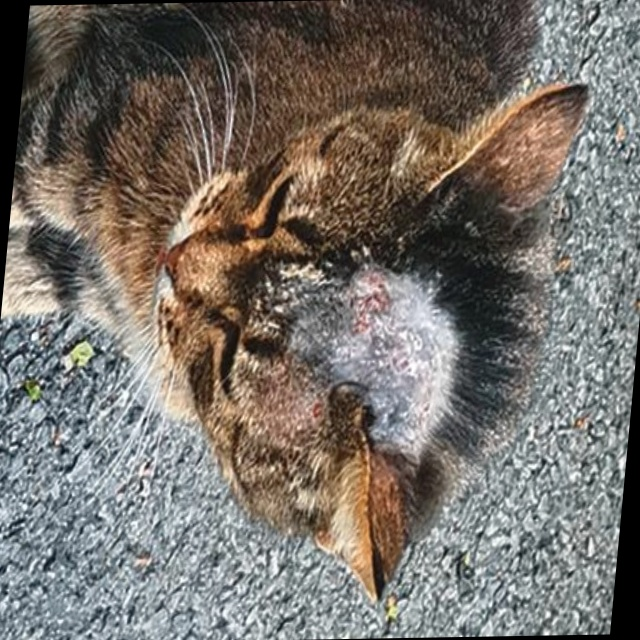ringworm: (253, 268, 471, 462)
